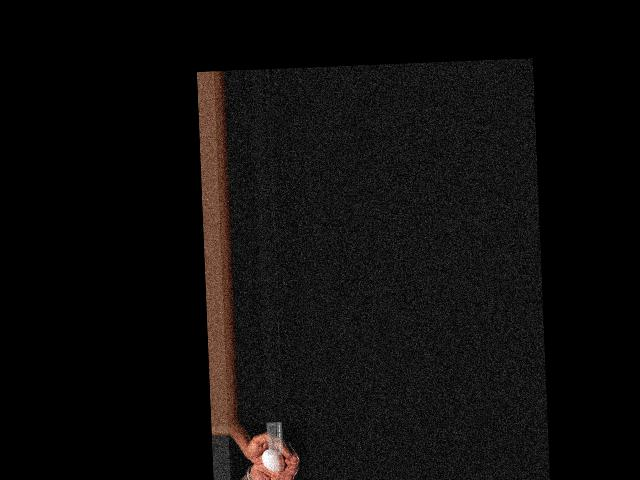egg: (262, 449, 285, 473)
